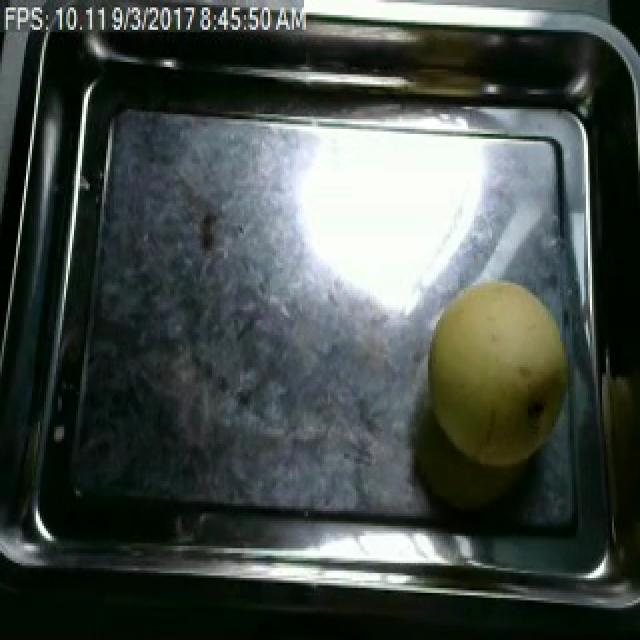Fruit: (408, 263, 588, 479)
